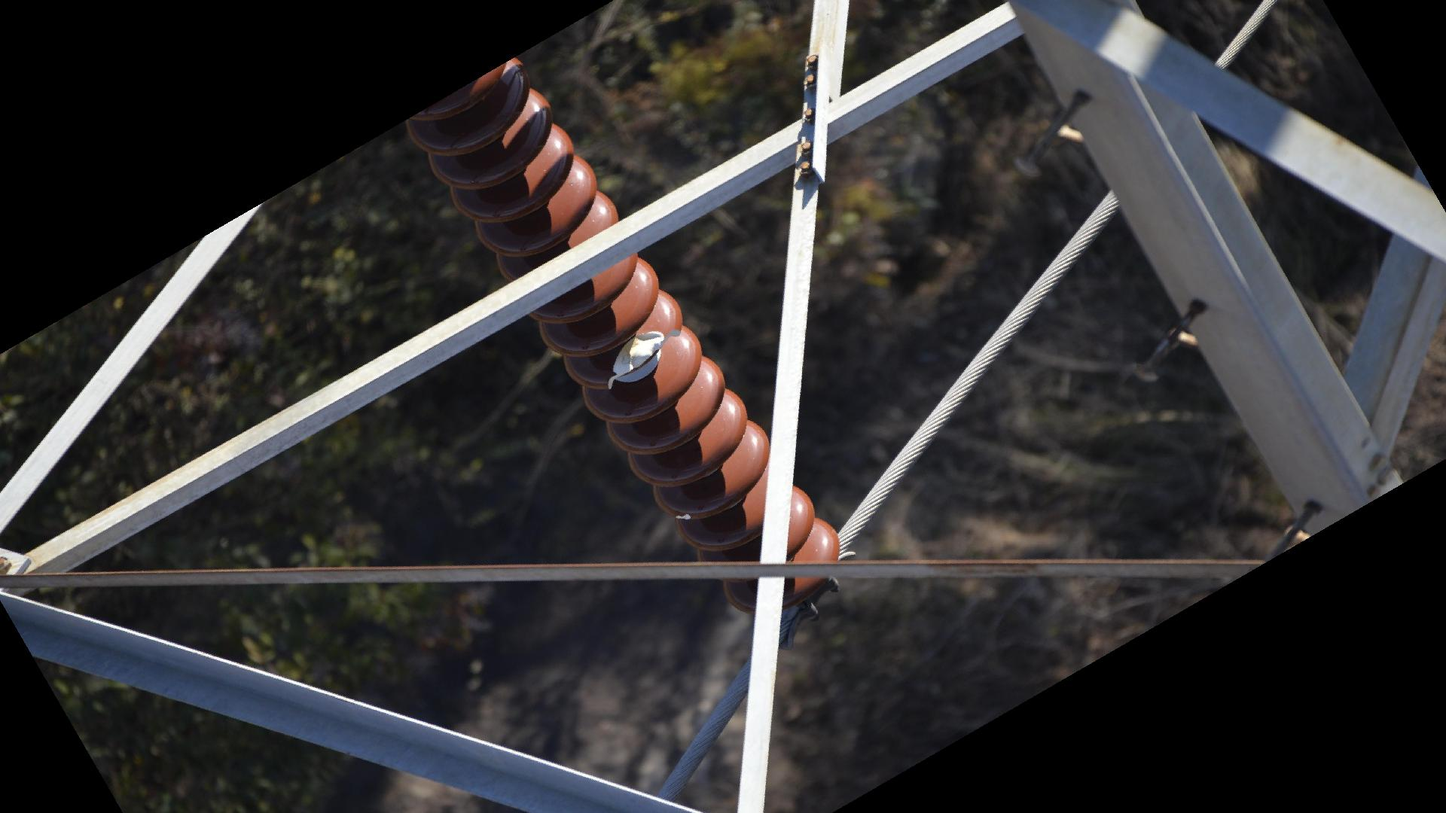insulator: (401, 48, 849, 621)
insulator_breakage: (601, 323, 685, 393)
